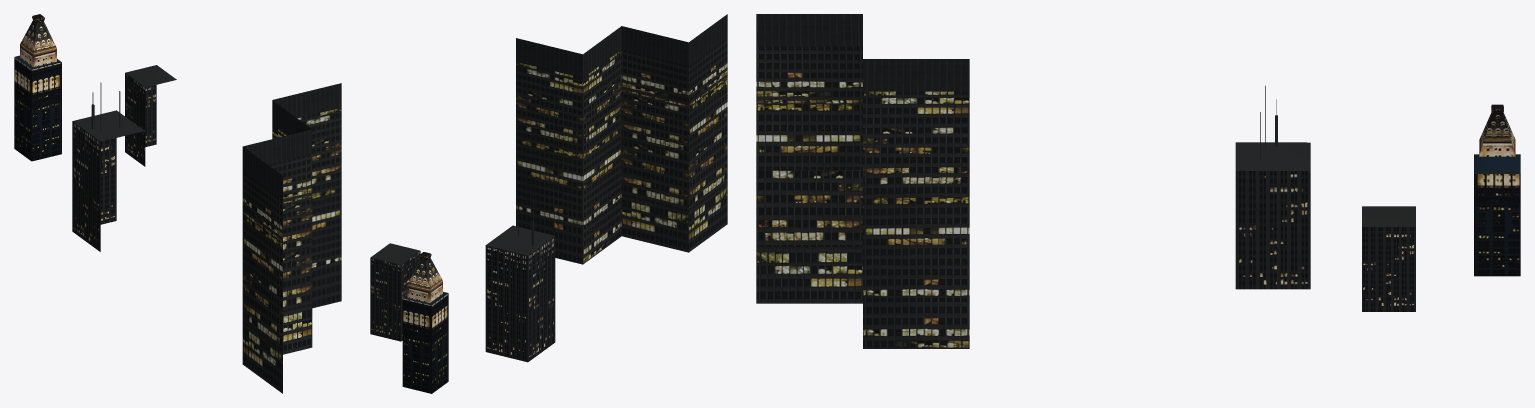
Rendered from room_05_city.fbx.
3 views of the same model, side by side, from view 1: azimuth 30°, elevation 25°; view 2: azimuth 150°, elevation 25°; view 3: azimuth 270°, elevation 25° (orthographic). The views are drawn at different scales.
Parts seen in each view (by area): view 1: structure_45, structure_44, structure_58, structure_59; view 2: structure_45, structure_58, structure_44, structure_59; view 3: structure_45, structure_58, structure_44, structure_59.
Part boxes in pixels (box(x1,y1,x2,y2)): structure_45: box(242, 83, 341, 393); structure_44: box(14, 16, 61, 161); structure_58: box(72, 110, 144, 251); structure_59: box(125, 65, 176, 166); structure_45: box(516, 14, 727, 264); structure_58: box(485, 225, 555, 362); structure_44: box(402, 254, 448, 393); structure_59: box(370, 243, 420, 341); structure_45: box(756, 14, 969, 348); structure_58: box(1235, 142, 1310, 289); structure_44: box(1474, 105, 1520, 276); structure_59: box(1362, 206, 1415, 311).
Bounding box in the file's own units: 15064 × 22259 × 53222.
Materials: 1 (1 with a texture image).
